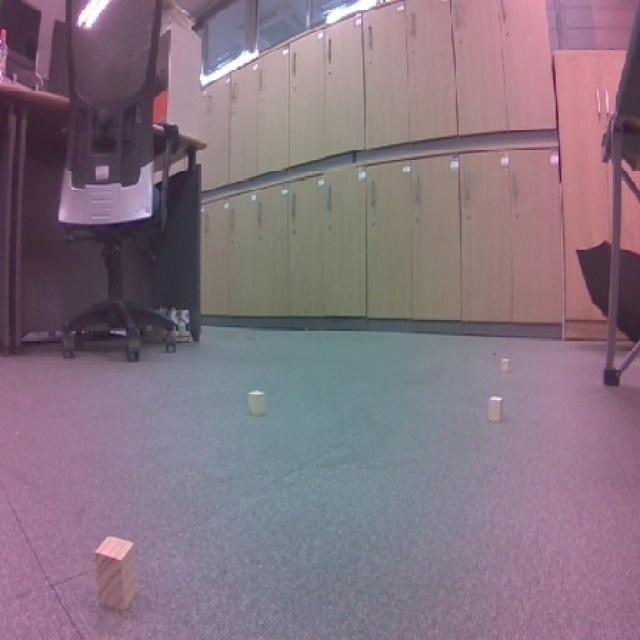obstacle: (80, 529, 158, 617)
